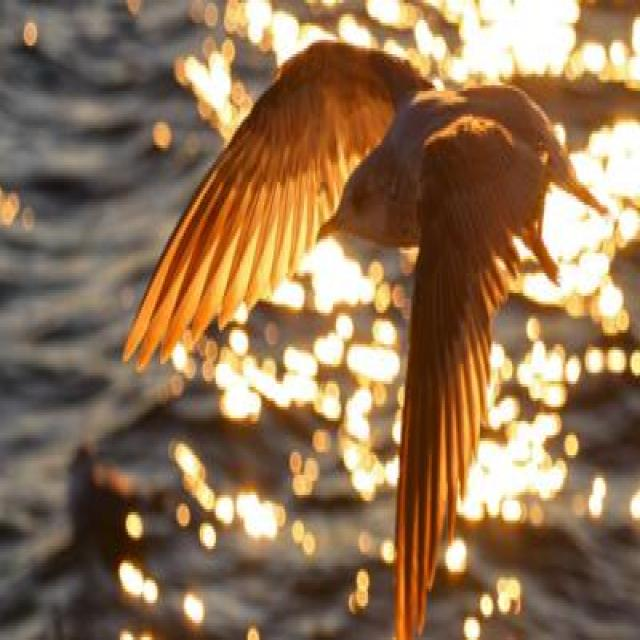birds: (103, 27, 612, 625)
